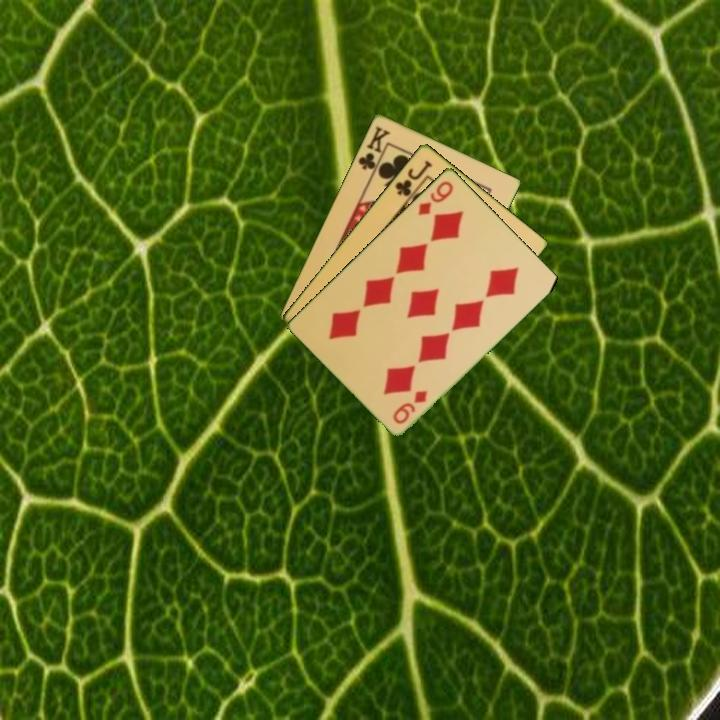9d: (414, 177, 456, 218), (389, 386, 430, 427)
Jc: (391, 156, 435, 199)
Kc: (354, 122, 393, 178)
